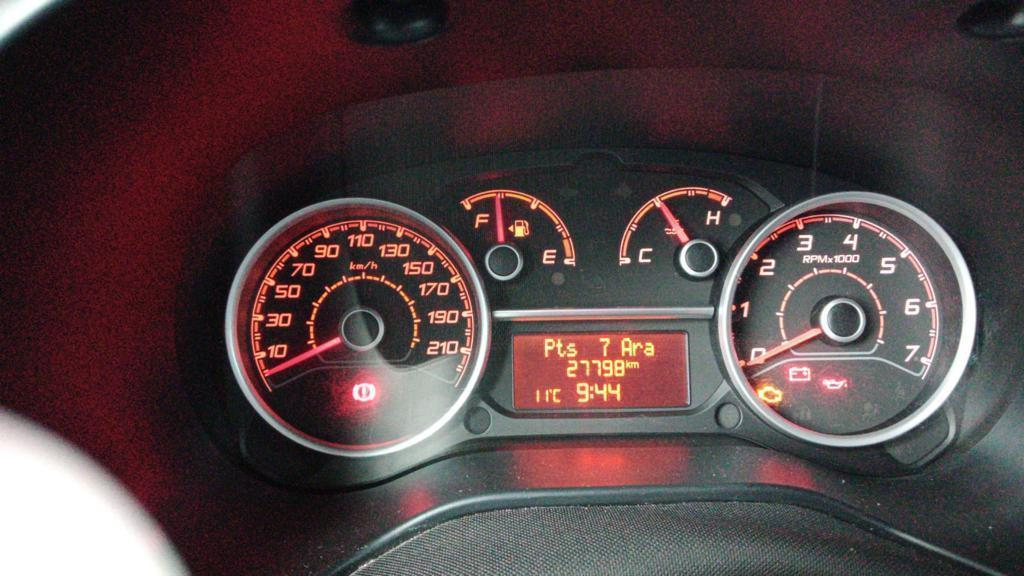1: (534, 388, 541, 403), (543, 388, 549, 403)
2: (565, 359, 578, 378)
4: (607, 382, 621, 402), (594, 382, 607, 402)
7: (597, 336, 610, 357), (590, 359, 602, 377), (579, 359, 590, 377)
8: (613, 359, 625, 377)
9: (574, 382, 588, 403), (602, 359, 613, 376)
X: (543, 337, 555, 358), (620, 337, 632, 356), (555, 338, 566, 358), (631, 341, 643, 357), (643, 341, 655, 357), (566, 342, 577, 357), (552, 388, 561, 403), (588, 385, 594, 399), (630, 361, 640, 368), (625, 358, 630, 368)
odometer: (508, 327, 693, 415)
